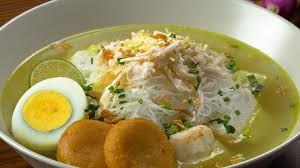soto: (1, 4, 300, 165)
